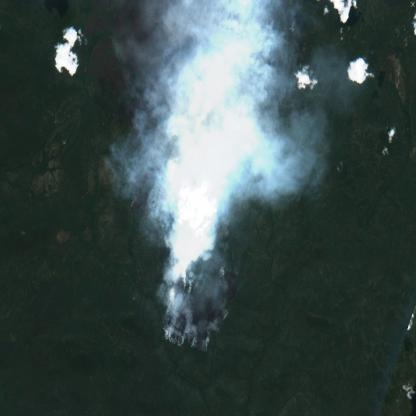fire: (158, 253, 243, 354), (125, 192, 172, 221)
